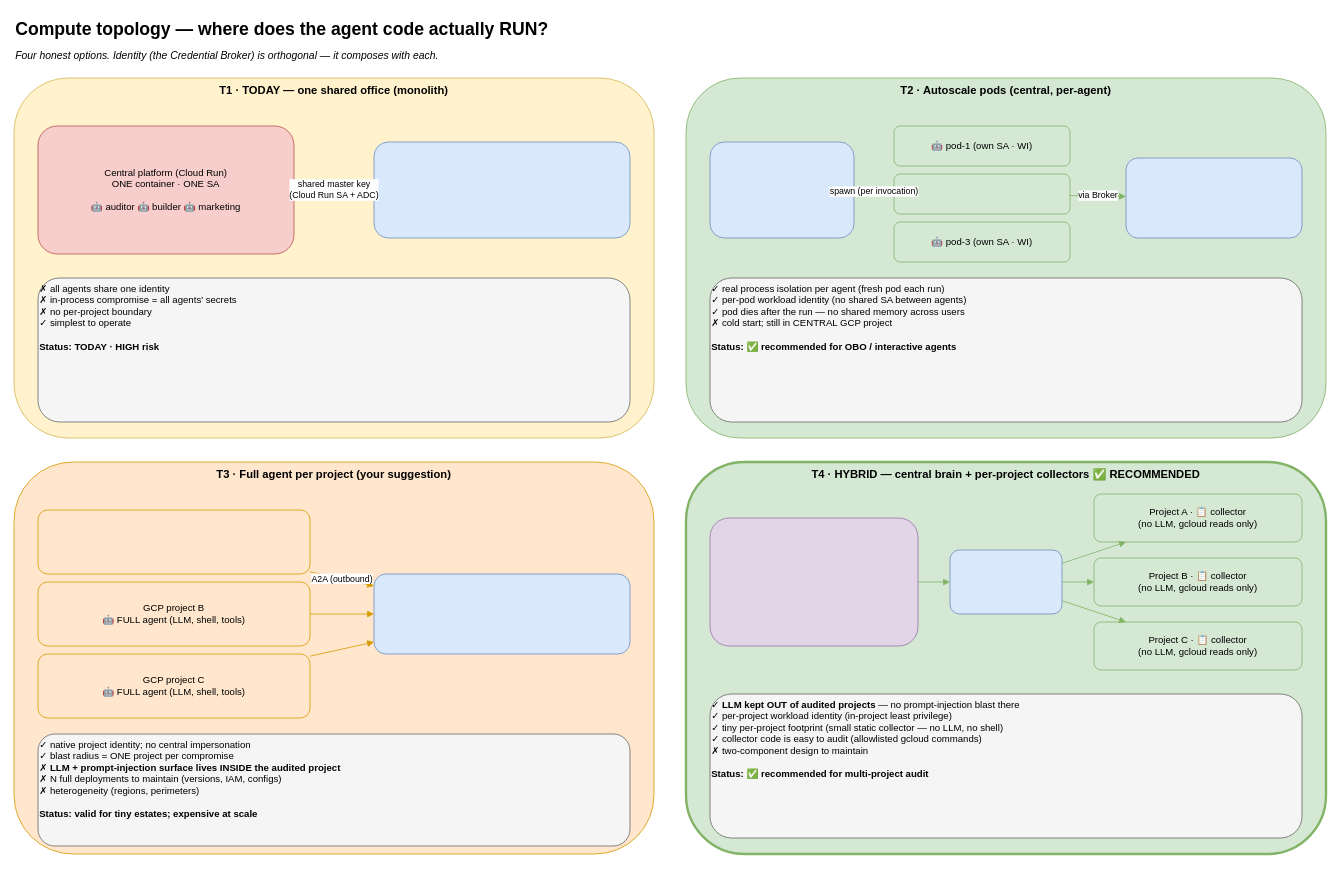
The diagram is 1341 pixels wide and 869 high, and some of its shapes have lost their labels. Each missing label, with the centre of its shape:
"Central forgeos coordinator (A2A inbox)" goes at (x=501, y=613).
"Central forgeos LLM agent + Credential Broker (OUTSIDE audited projects)" goes at (x=813, y=581).
"Central orchestrator" goes at (x=781, y=189).
"GCP project A 🤖 FULL agent (LLM, shell, tools)" goes at (x=173, y=541).
"GCP project(s)" goes at (x=1213, y=197).
"GCP project(s) 'read-only' is a PROMPT promise" goes at (x=501, y=189).
"Pub/Sub (jobs / results)" goes at (x=1005, y=581).
"🤖 pod-2 (own SA · WI)" goes at (x=981, y=193).
